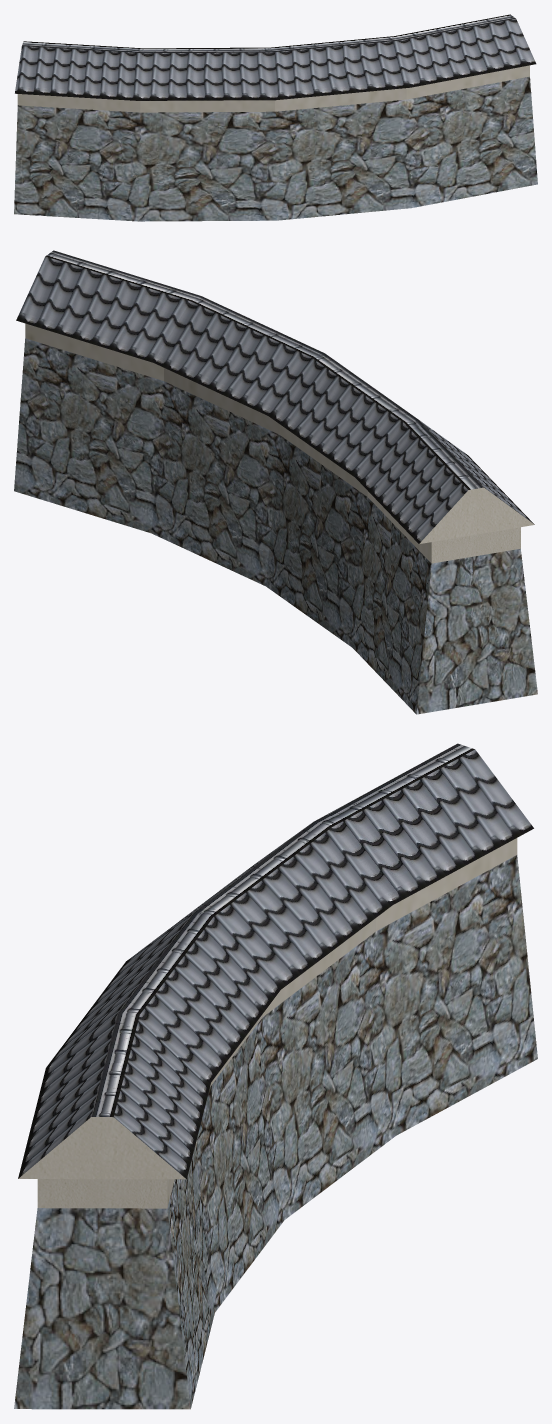
The model's file is honmaru_ishigaki_wrap.fbx.
The picture shows the model from 3 angles, top to bottom: view 1: azimuth 30°, elevation 25°; view 2: azimuth 150°, elevation 25°; view 3: azimuth 270°, elevation 25°; orthographic projection. The views are drawn at different scales.
Parts seen in each view (by area): view 1: 立方体; view 2: 立方体; view 3: 立方体.
Boxes of the visible parts, x1=… form: 立方体: x1=14, y1=14, x2=537, y2=221; 立方体: x1=14, y1=250, x2=537, y2=714; 立方体: x1=14, y1=743, x2=537, y2=1409.
Size of the model in its own units: 140 by 47.76 by 78.07.
3 materials, 3 textured.
